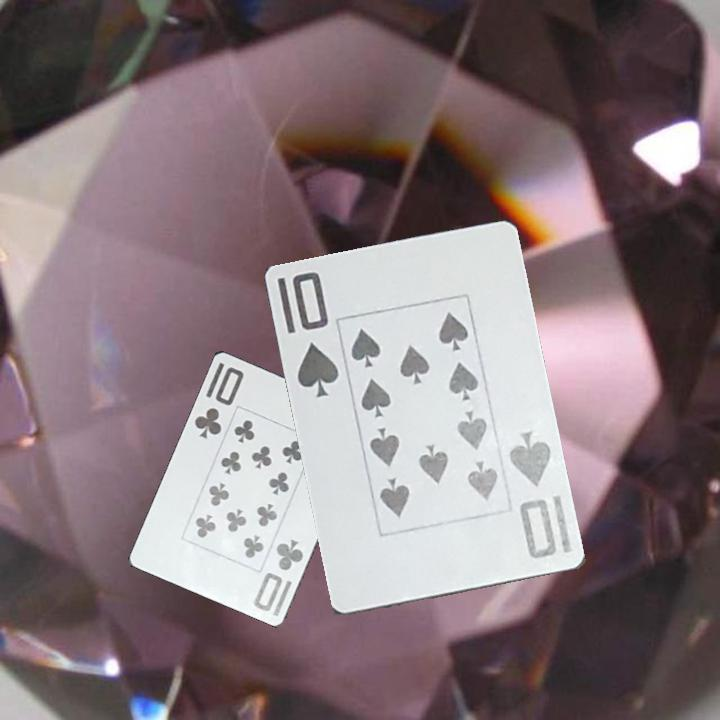Tc: (247, 535, 310, 619), (190, 363, 247, 442)
Ts: (274, 268, 343, 401), (506, 428, 560, 563)
